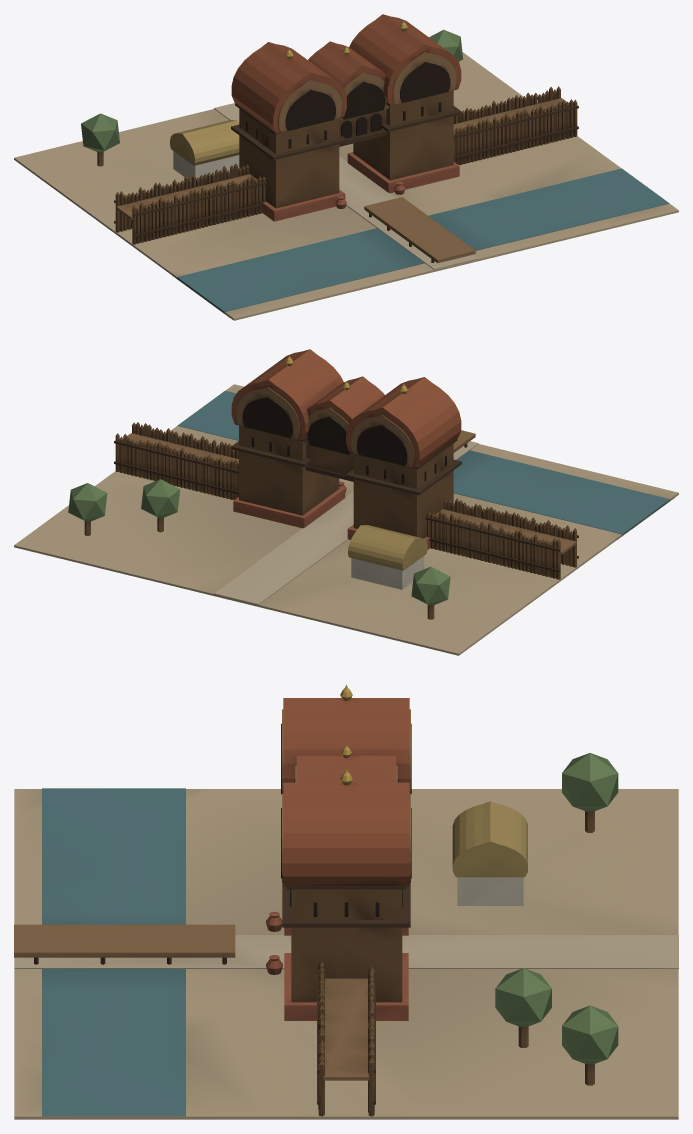
The model's file is city-gate.glb.
3 views of the same model, one above another, from view 1: azimuth 30°, elevation 25°; view 2: azimuth 150°, elevation 25°; view 3: azimuth 270°, elevation 25° (orthographic). The views are drawn at different scales.
Parts seen in each view (by area): view 1: p0_ditch and bridge, p2_gate towers, p1_palisade, p3_roof; view 2: p0_ditch and bridge, p2_gate towers, p1_palisade, p3_roof; view 3: p0_ditch and bridge, p2_gate towers, p3_roof, p1_palisade.
Boxes of the visible parts, left/top/right/bottom form: p0_ditch and bridge: left=14, top=52, right=678, bottom=320; p2_gate towers: left=231, top=14, right=461, bottom=221; p1_palisade: left=114, top=86, right=578, bottom=244; p3_roof: left=81, top=29, right=463, bottom=179; p0_ditch and bridge: left=14, top=384, right=678, bottom=655; p2_gate towers: left=231, top=349, right=461, bottom=549; p1_palisade: left=114, top=422, right=578, bottom=579; p3_roof: left=68, top=376, right=450, bottom=619; p0_ditch and bridge: left=14, top=788, right=678, bottom=1119; p2_gate towers: left=266, top=684, right=411, bottom=1020; p3_roof: left=294, top=744, right=618, bottom=1085; p1_palisade: left=317, top=961, right=375, bottom=1116.
Size of the model in its own units: 70.06 by 22.83 by 60.06.
